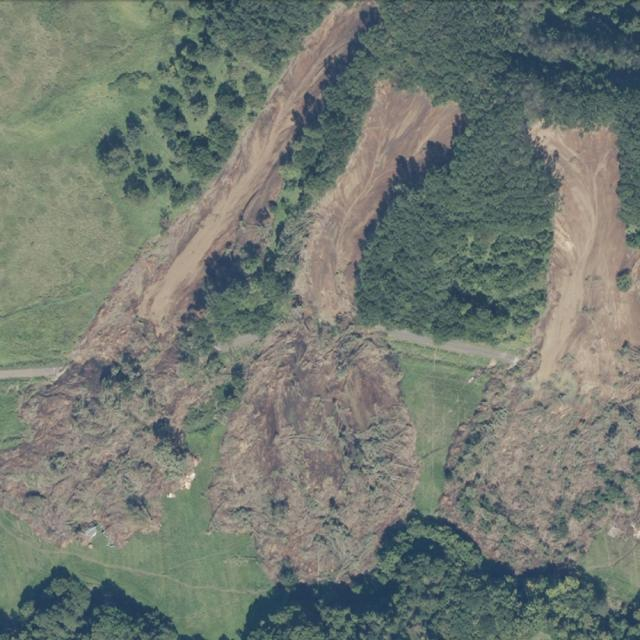landslide: (0, 4, 369, 547), (208, 81, 461, 583), (441, 122, 640, 572)
